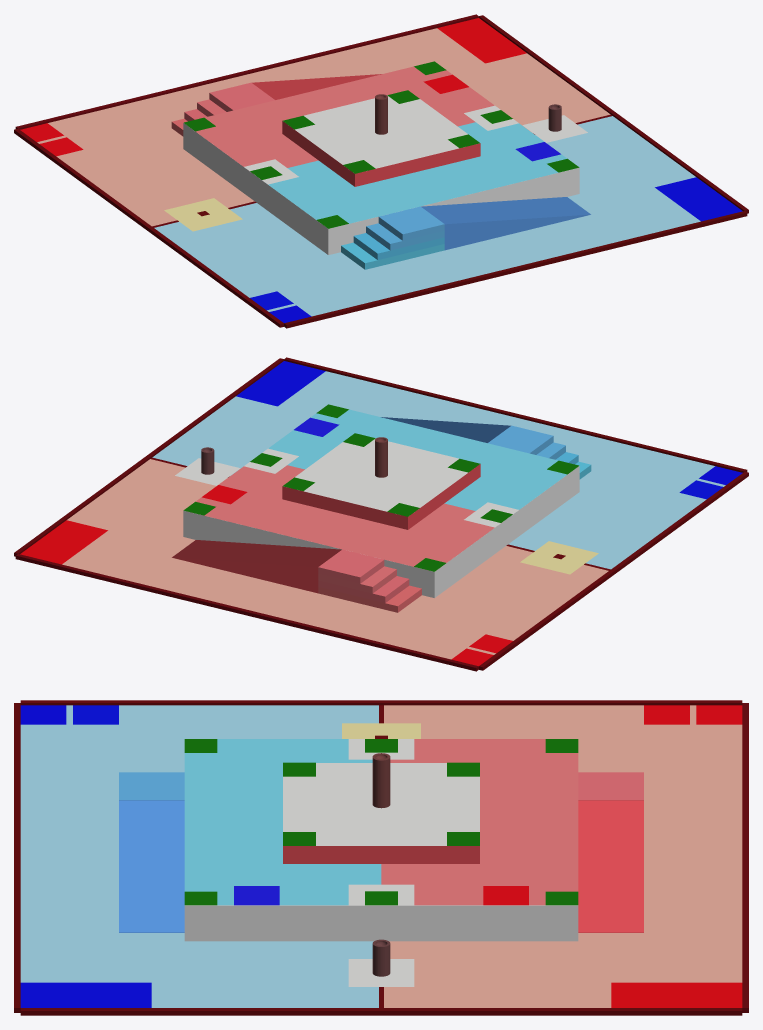
3 views of the same model, one above another, from view 1: azimuth 30°, elevation 25°; view 2: azimuth 150°, elevation 25°; view 3: azimuth 270°, elevation 25° (orthographic). The views are drawn at different scales.
Parts seen in each view (by area): view 1: Ground_Blue, Ground_Red, Plane.001, Plane, L2_top_gray, Cube, Cube.006, Boundary_Wall_Right, Cube.017, Boundary_Wall_Front, Boundary_Wall_Left, Storage_Red (+12 smaller); view 2: Ground_Red, Ground_Blue, Plane, Plane.001, L2_top_gray, Cube, Cube.001, Boundary_Wall_Left, Cube.017, Boundary_Wall_Front, Boundary_Wall_Right, Storage_Blue (+12 smaller); view 3: Ground_Red, Ground_Blue, Plane, Plane.001, Cube, L2_top_gray, Cube.001, Cube.006, Boundary_Wall_Back, Boundary_Wall_Front, Cube.017, Storage_Blue (+17 smaller).
Part boxes in pixels (box(x1,y1,x2,y2)): Ground_Blue: box(154, 116, 700, 316); Ground_Red: box(37, 28, 610, 226); Plane.001: box(268, 122, 566, 223); Plane: box(195, 66, 494, 167); L2_top_gray: box(295, 95, 467, 168); Cube: box(183, 123, 579, 254); Cube.006: box(421, 197, 590, 250); Boundary_Wall_Right: box(284, 211, 747, 328); Cube.017: box(282, 121, 480, 186); Boundary_Wall_Front: box(14, 128, 283, 327); Boundary_Wall_Left: box(15, 14, 478, 129); Storage_Red: box(437, 18, 526, 63); Ground_Red: box(62, 459, 608, 659); Ground_Blue: box(152, 371, 725, 569); Plane: box(196, 465, 494, 566); Plane.001: box(268, 409, 567, 510); L2_top_gray: box(295, 438, 467, 511); Cube: box(183, 466, 579, 597); Cube.001: box(172, 540, 341, 593); Boundary_Wall_Left: box(15, 554, 478, 671); Cube.017: box(282, 464, 480, 529); Boundary_Wall_Front: box(479, 471, 748, 670); Boundary_Wall_Right: box(284, 357, 747, 472); Storage_Blue: box(236, 361, 325, 406); Ground_Red: box(384, 705, 742, 1007); Ground_Blue: box(20, 705, 378, 1007); Plane: box(381, 739, 578, 905); Plane.001: box(184, 739, 381, 905); Cube: box(184, 905, 578, 941); L2_top_gray: box(283, 763, 479, 845); Cube.001: box(578, 800, 643, 932); Cube.006: box(119, 800, 184, 932); Boundary_Wall_Back: box(20, 1008, 742, 1015); Boundary_Wall_Front: box(20, 700, 742, 705); Cube.017: box(283, 846, 479, 863); Storage_Blue: box(20, 982, 151, 1007).
Size of the model in its own units: 11.2 by 11.2 by 1.74.
